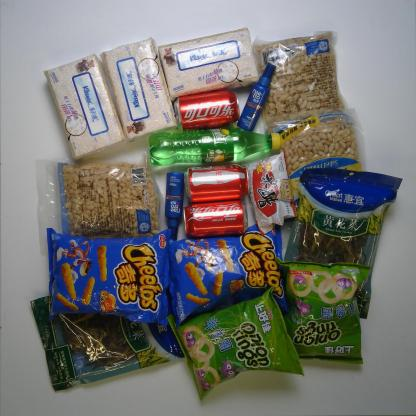Dried Food: (280, 166, 404, 320), (29, 290, 188, 394)
Dried Fruit: (32, 149, 170, 258), (259, 107, 369, 229), (250, 30, 350, 138)
Drink: (147, 121, 284, 173), (171, 88, 242, 134), (181, 163, 253, 204), (182, 199, 250, 239)
Personal Hygiene: (236, 61, 278, 133), (161, 170, 190, 242)
Puffed Food: (162, 283, 307, 402), (159, 220, 291, 331), (40, 224, 173, 328), (272, 253, 374, 370)
Seasoner: (240, 149, 300, 237)
Tissue: (41, 52, 128, 164), (98, 36, 180, 143), (156, 25, 261, 102)
